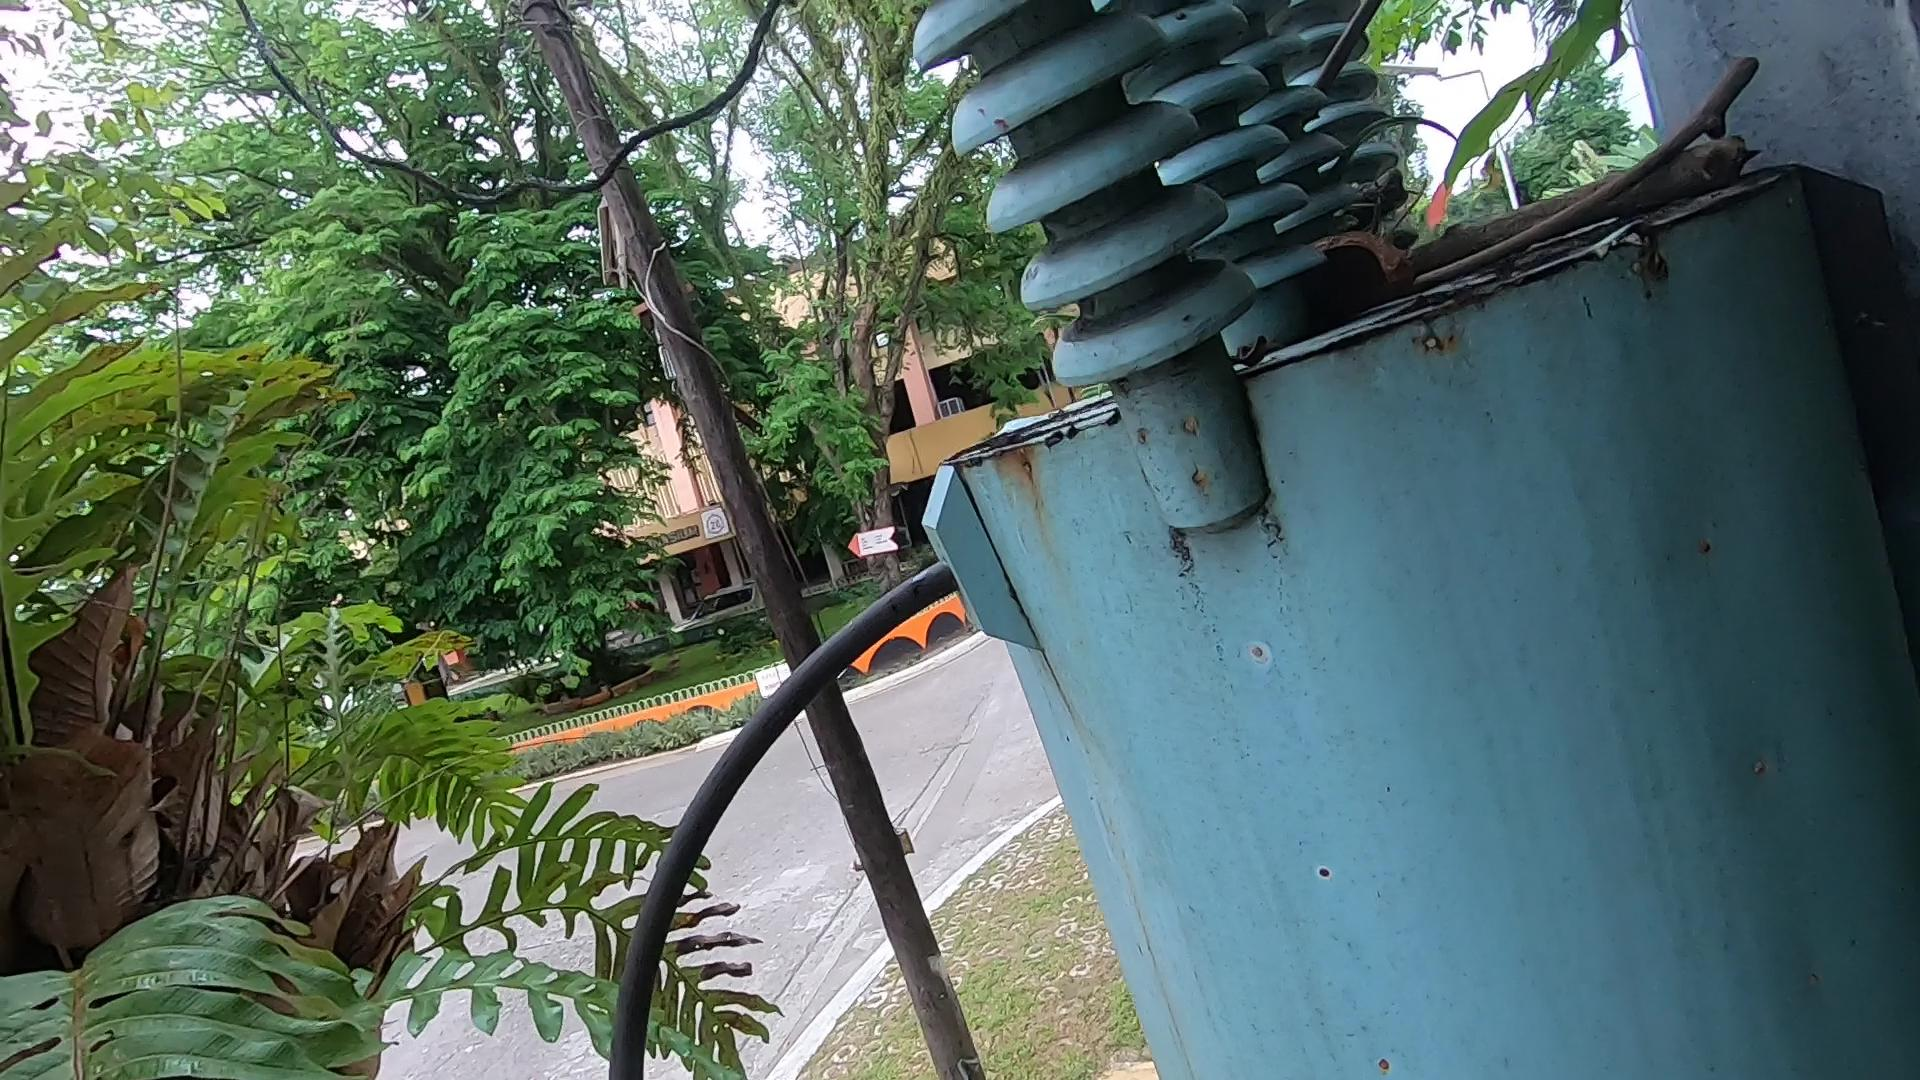branch with leaves: (1393, 44, 1762, 309)
mahogany fruit: (1329, 214, 1414, 328)
tree branch: (1389, 132, 1791, 225)
